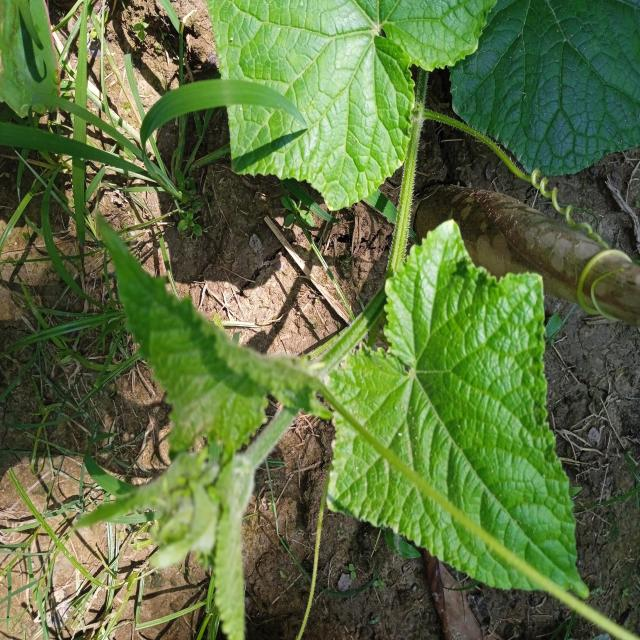cucumber_healthy: (316, 216, 598, 613), (78, 203, 328, 640), (202, 0, 508, 214), (439, 0, 640, 189)
